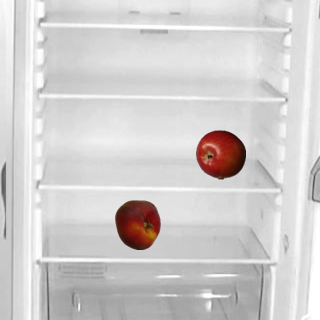Apple Braeburn: (195, 129, 245, 179)
Nectarine Flat: (112, 199, 162, 249)
